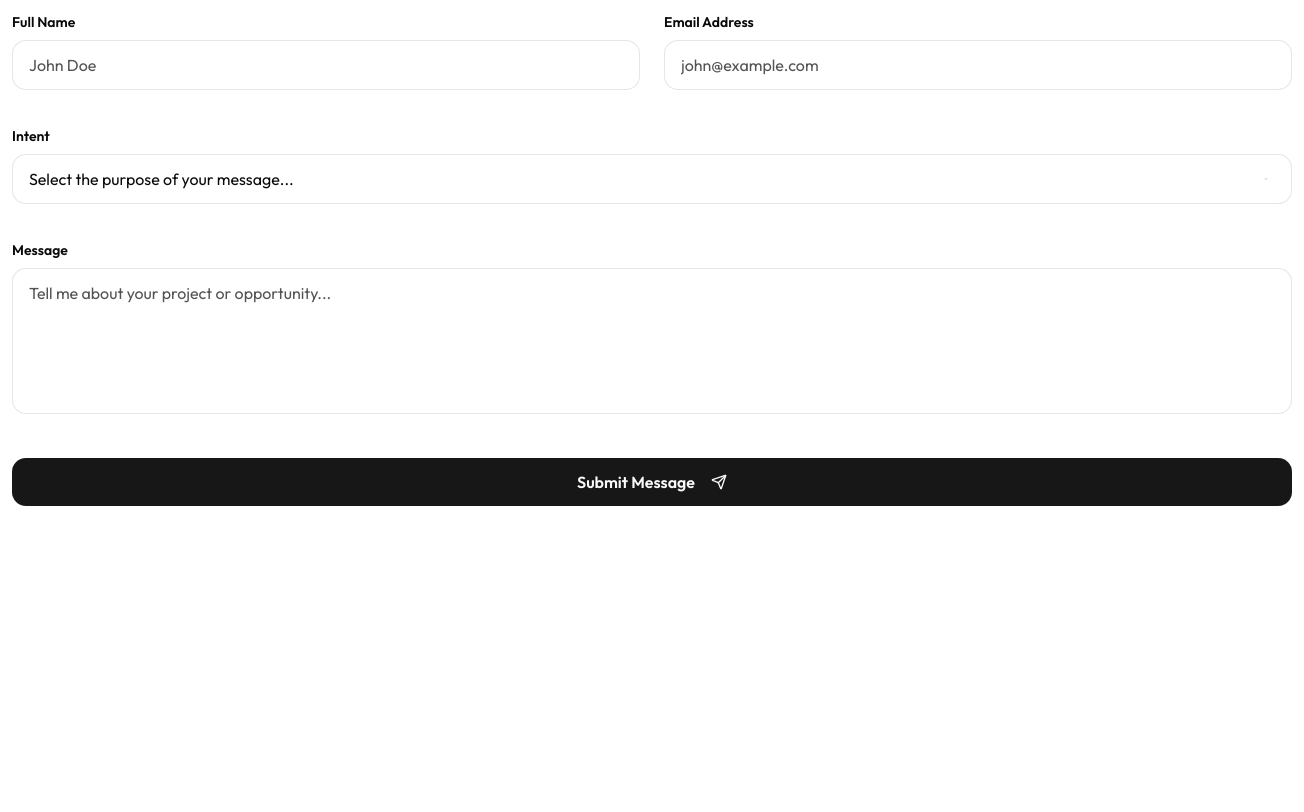
ContactForm Component › shows "Please Specify" input when intent is set to other
Expected: the field labelled "Please Specify" is not shown
Select "Other" in the dropdown labelled "Intent" at x=652, y=179, box [12, 154, 1292, 204]
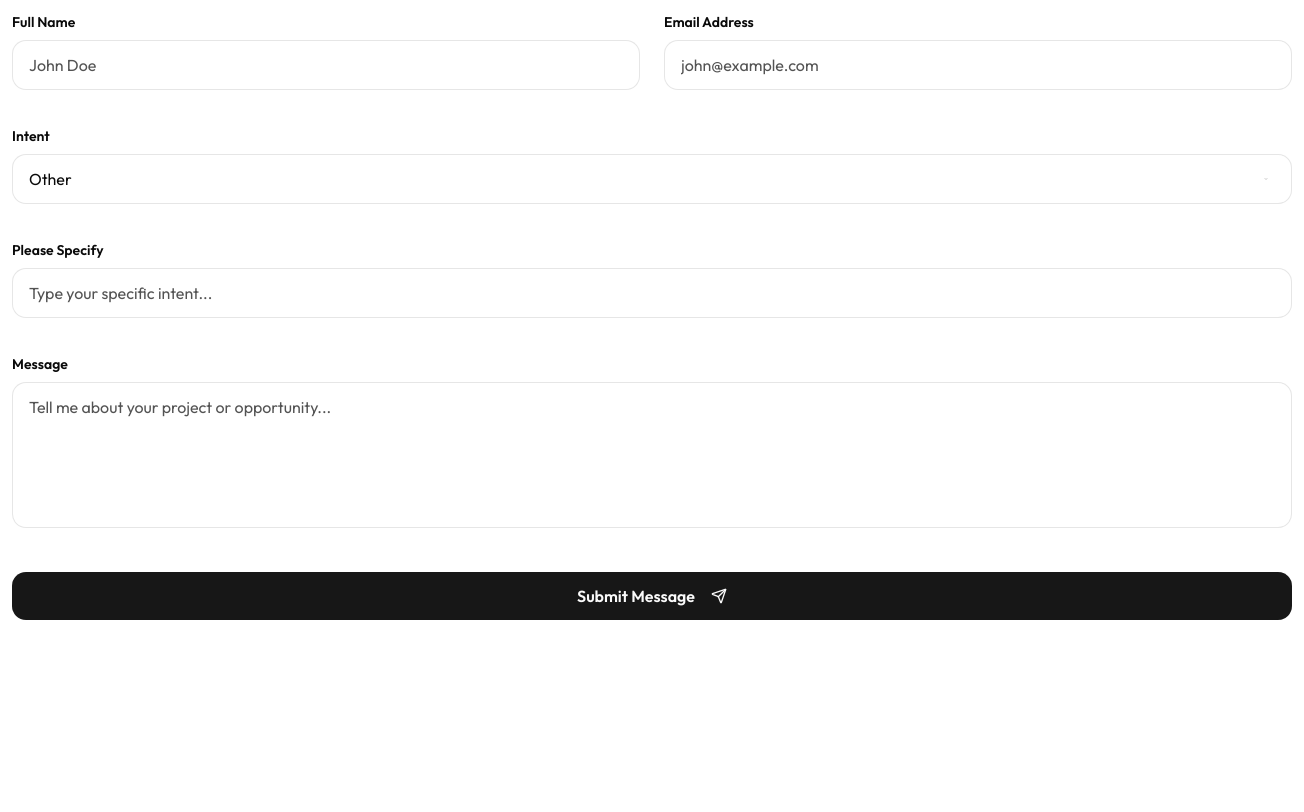
Expected: the field labelled "Please Specify" is shown, [12, 268, 1292, 318]
